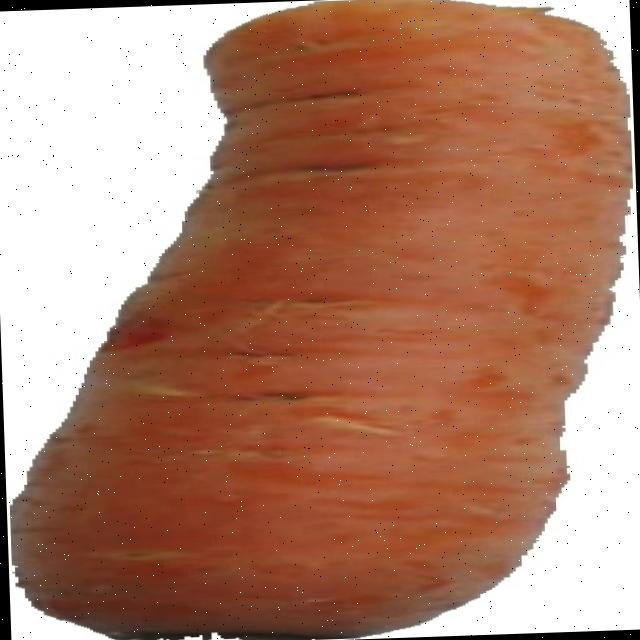carrot: (14, 0, 625, 640)
